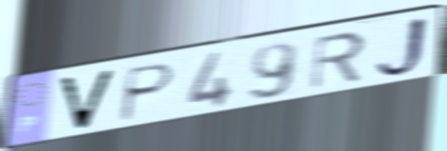4: (185, 49, 236, 111)
9: (245, 39, 306, 101)
J: (372, 13, 432, 81)
P: (115, 60, 179, 125)
R: (308, 29, 369, 92)
V: (54, 67, 119, 133)
